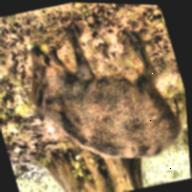boar: (0, 2, 191, 188)
